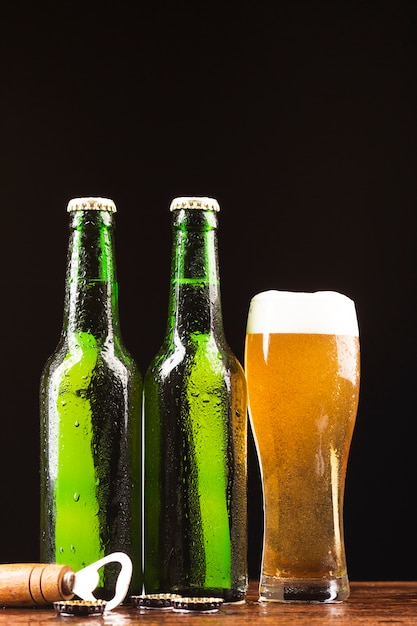alcohol: (41, 194, 143, 599), (149, 195, 249, 607), (245, 290, 362, 604)
